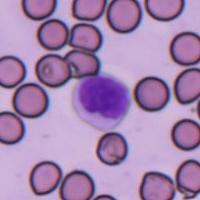M: (70, 73, 132, 130)
